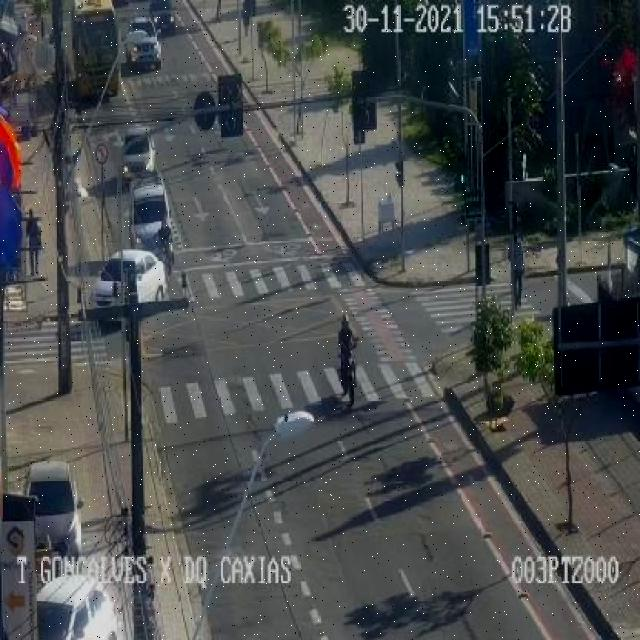bus: (68, 0, 120, 106)
car: (24, 461, 81, 572), (88, 248, 166, 327), (35, 574, 117, 640), (128, 173, 174, 259), (122, 125, 155, 183), (126, 15, 160, 68)
motorbike: (338, 312, 358, 405), (155, 214, 173, 288), (508, 228, 524, 308), (25, 208, 41, 276)
